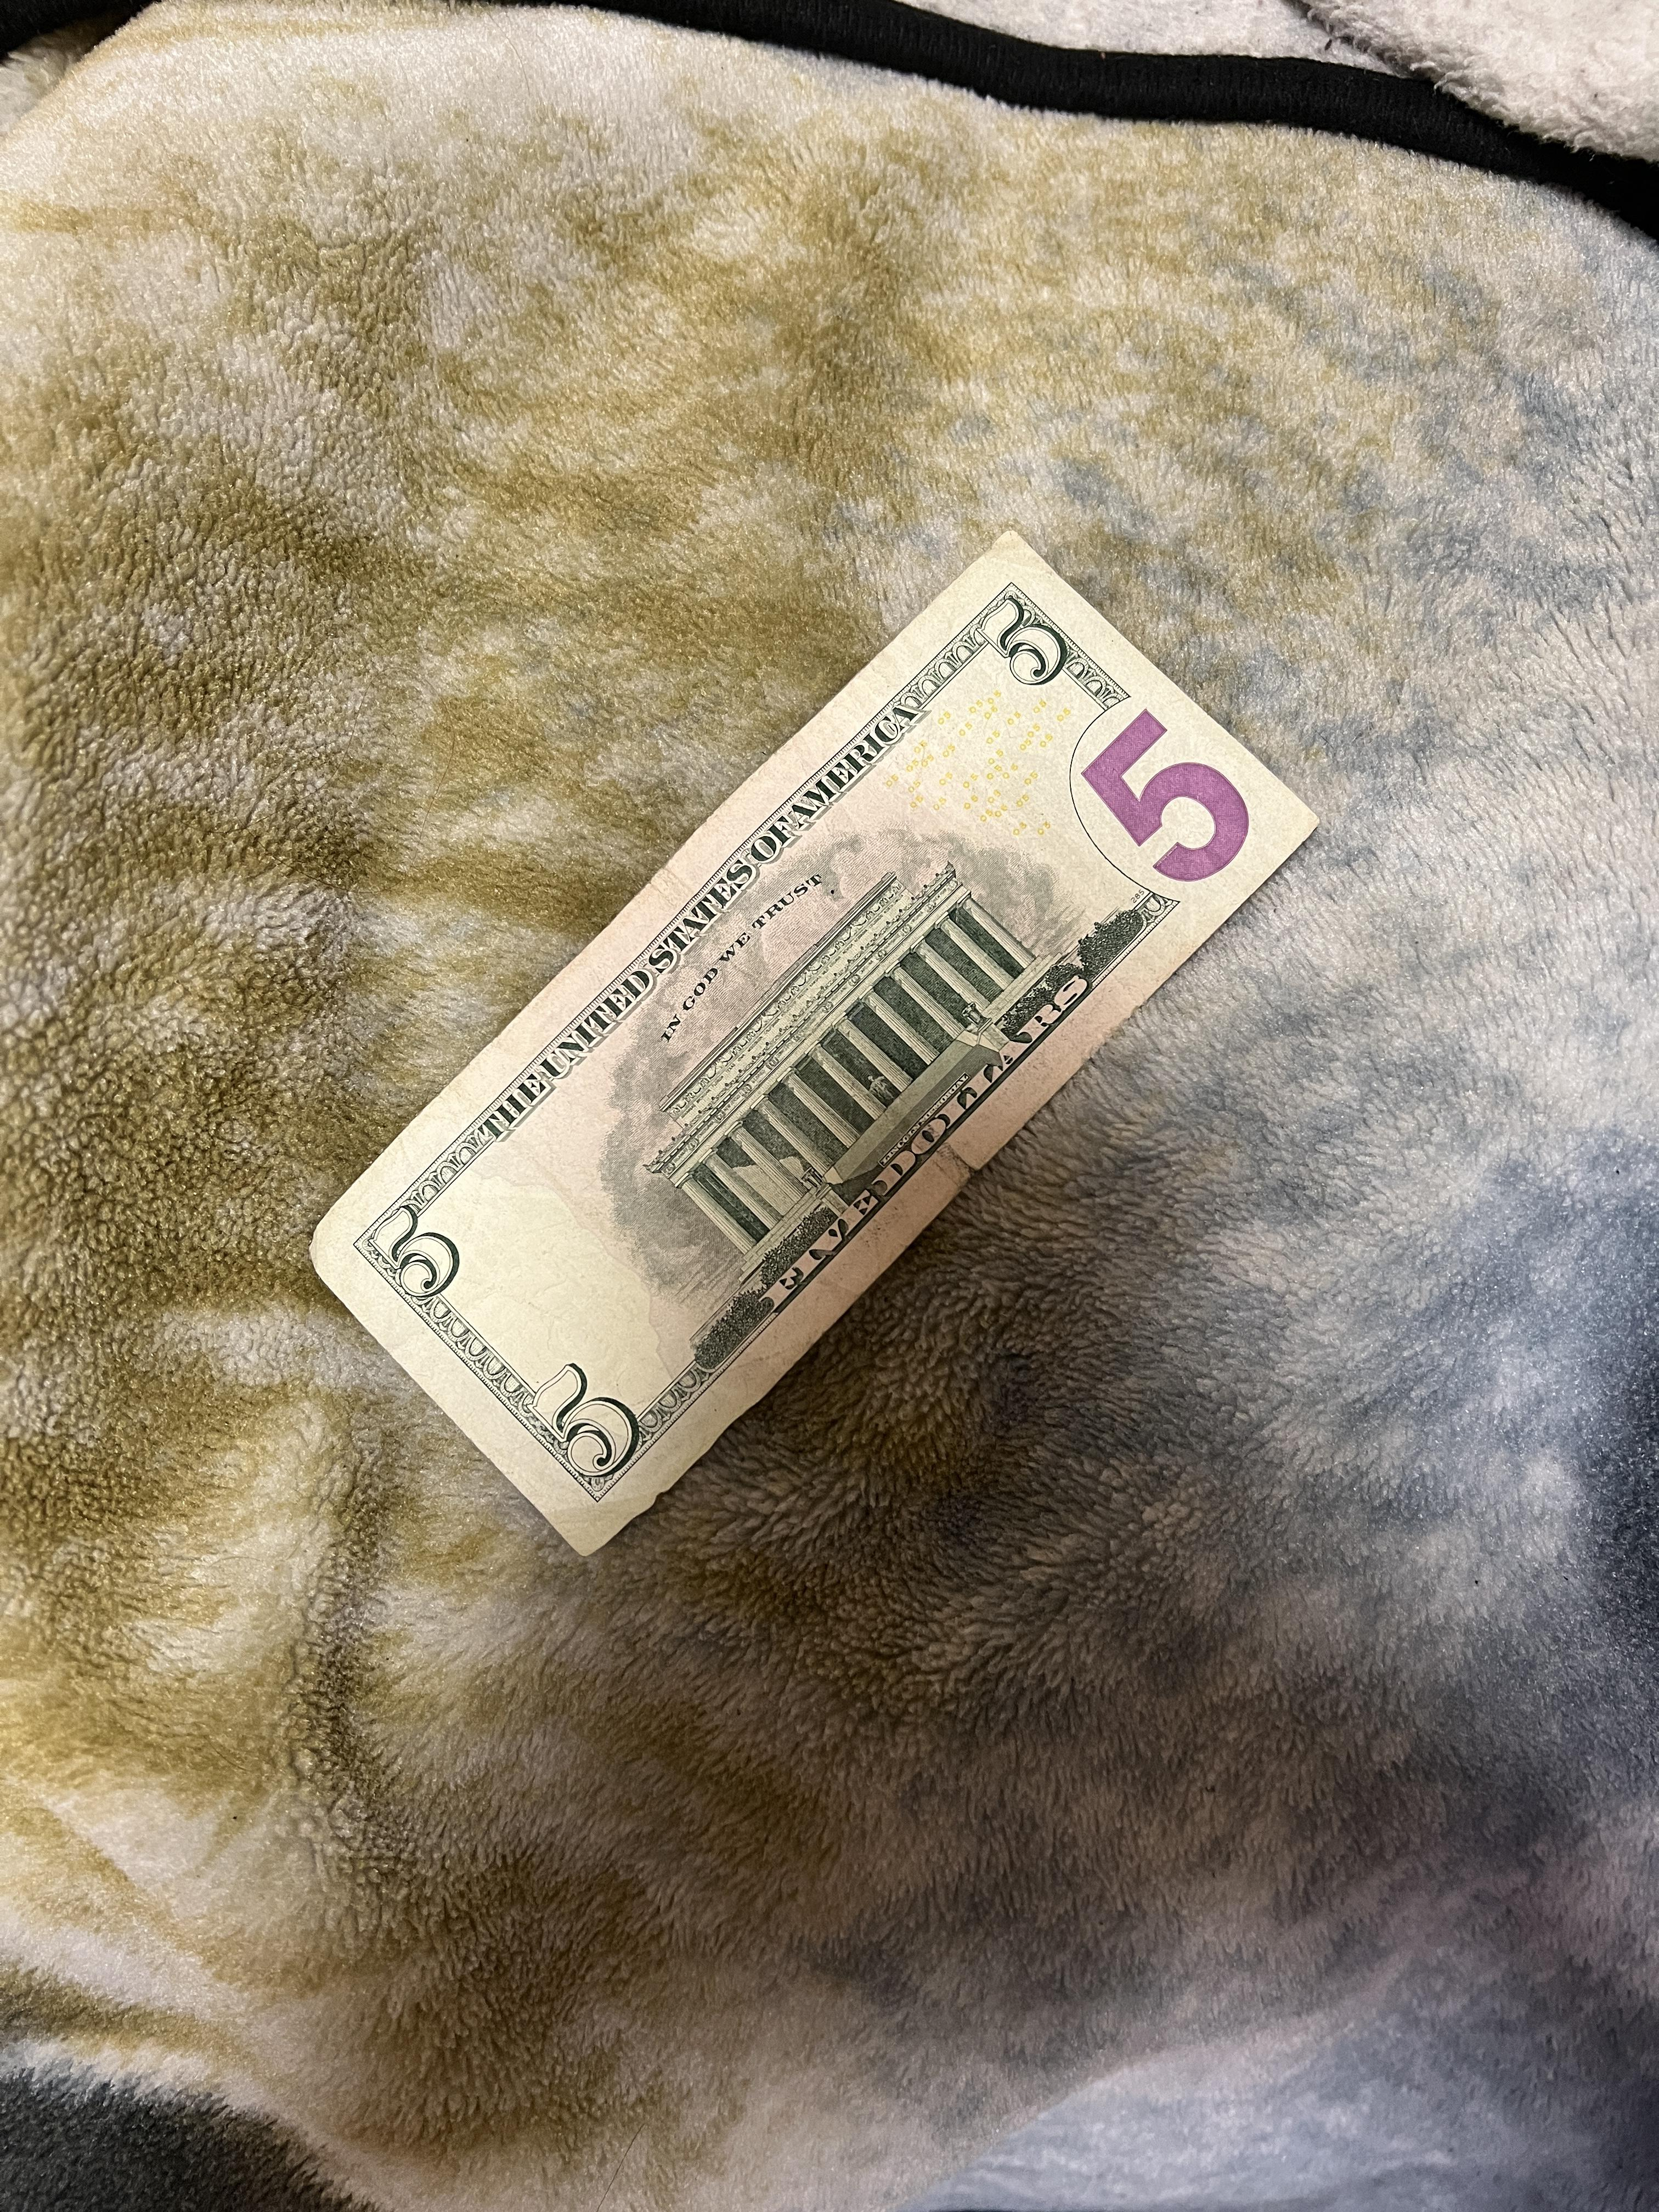FiveBill: (308, 524, 1321, 1552)
